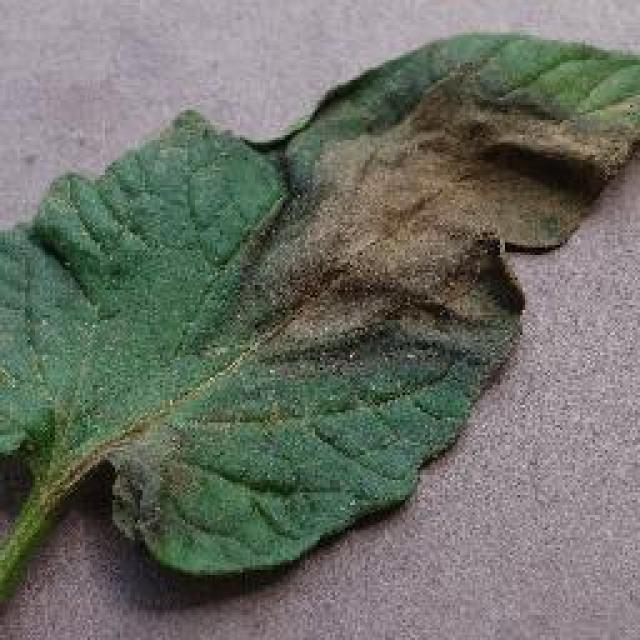Tomato Late Blight: (213, 45, 605, 428)
